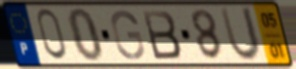0: (64, 6, 106, 64), (35, 7, 70, 64)
8: (190, 8, 225, 63)
B: (140, 9, 184, 62)
G: (109, 9, 146, 62)
U: (218, 6, 264, 65)
